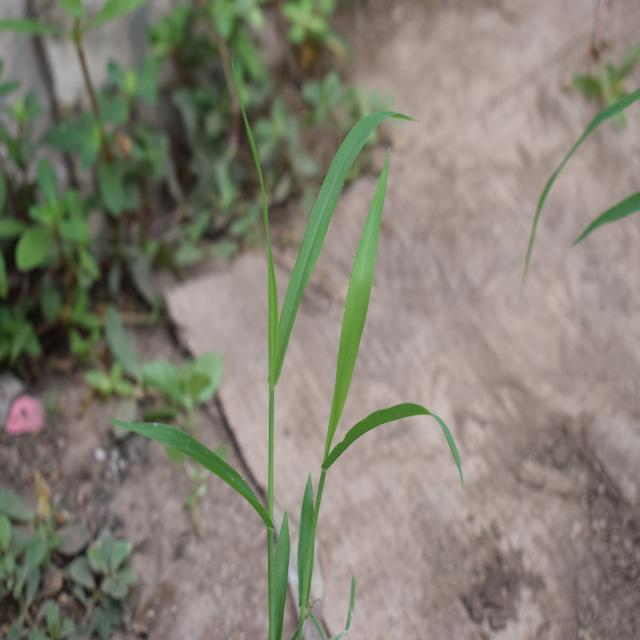crabgrass: (177, 103, 457, 604)
